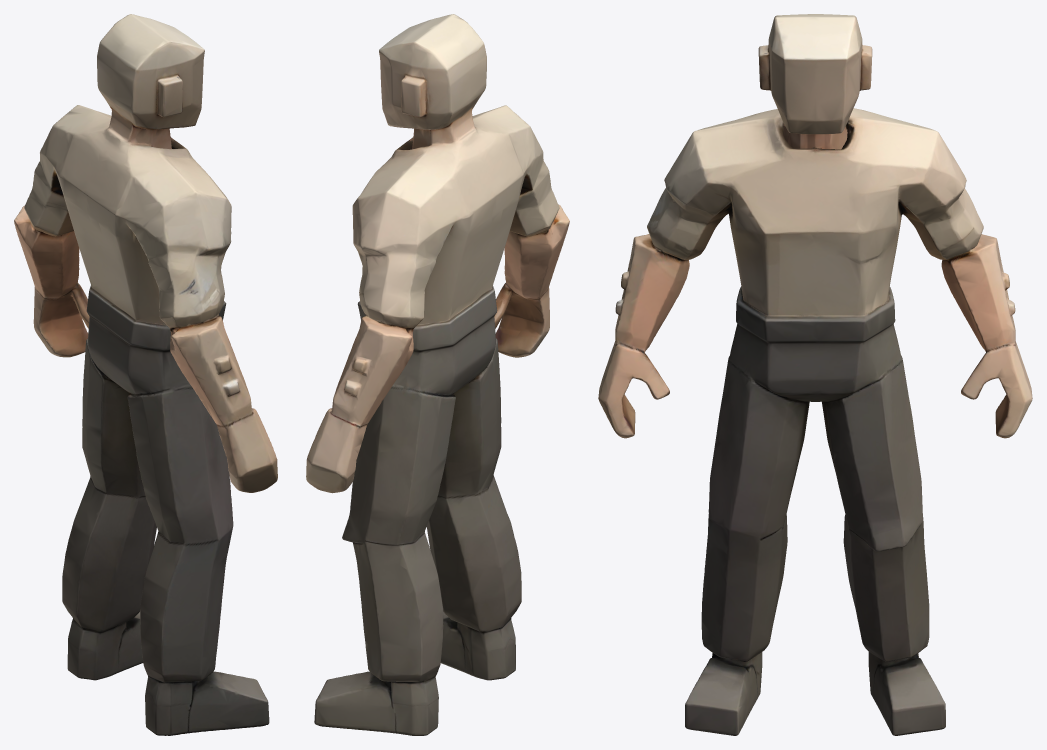
The model's file is npc-merchant.glb.
The picture shows the model from 3 angles, left to right: view 1: azimuth 30°, elevation 25°; view 2: azimuth 150°, elevation 25°; view 3: azimuth 270°, elevation 25°; orthographic projection. The views are drawn at different scales.
Visible parts, largest first — view 1: tripo_node_16cccd07-aa21-4a31-a289-57cdaebce64b; view 2: tripo_node_16cccd07-aa21-4a31-a289-57cdaebce64b; view 3: tripo_node_16cccd07-aa21-4a31-a289-57cdaebce64b.
Boxes of the visible parts, x1,y1,x2,y2 form: tripo_node_16cccd07-aa21-4a31-a289-57cdaebce64b: (14,14,277,735); tripo_node_16cccd07-aa21-4a31-a289-57cdaebce64b: (306,14,569,735); tripo_node_16cccd07-aa21-4a31-a289-57cdaebce64b: (598,14,1032,735).
Size of the model in its own units: 0.3768 by 1.8 by 1.03.
Materials: 1 (1 with a texture image).
